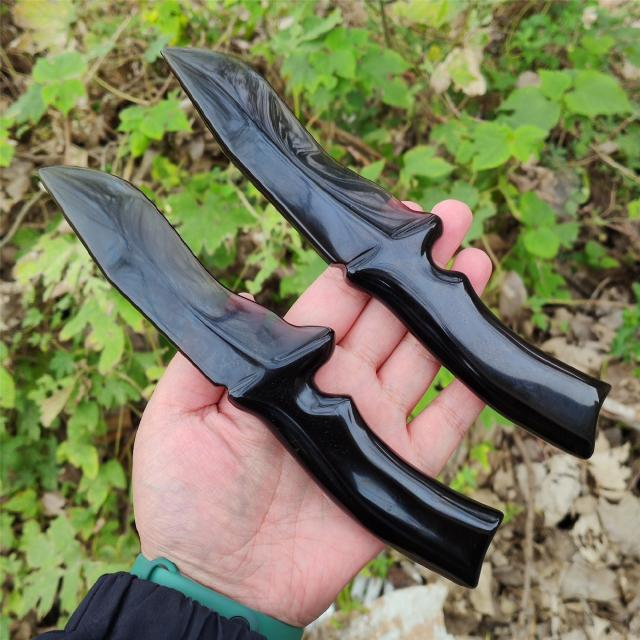knife: (27, 162, 514, 602), (164, 38, 627, 462)
